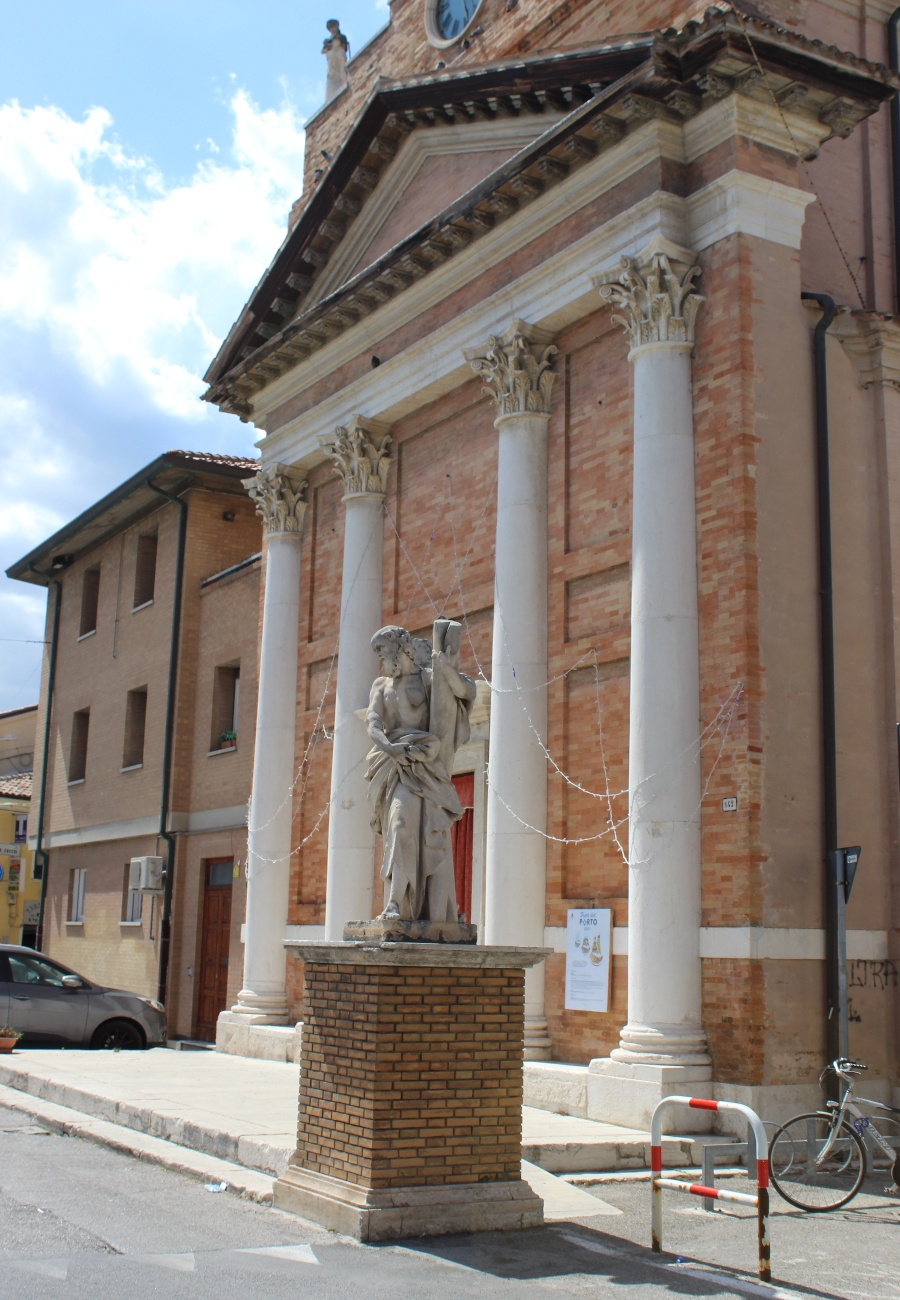Parrocchia Santa Maria: (204, 21, 787, 1162)
